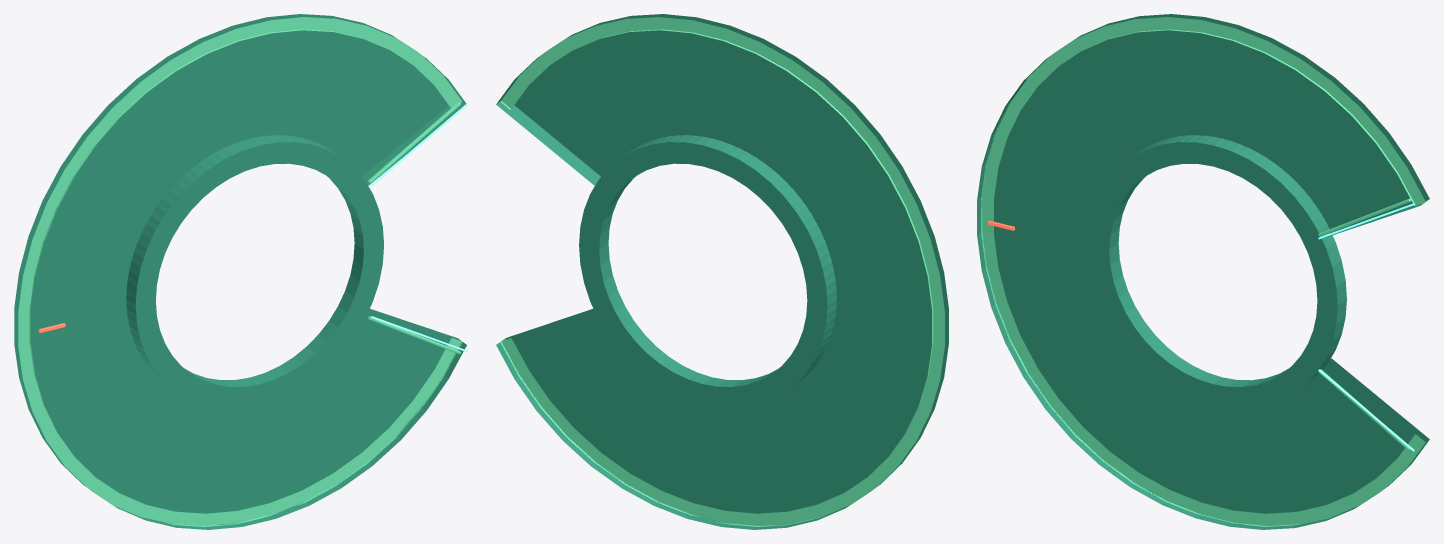
The model's file is bio-panel-fun4-medium.glb.
3 views of the same model, side by side, from view 1: azimuth 30°, elevation 25°; view 2: azimuth 150°, elevation 25°; view 3: azimuth 330°, elevation 25° (orthographic).
Parts seen in each view (by area): view 1: RENDER_PANEL_SHELL, RENDER_PANEL_FRAME, RENDER_PANEL_SIGNAL; view 2: RENDER_PANEL_SHELL, RENDER_PANEL_FRAME; view 3: RENDER_PANEL_SHELL, RENDER_PANEL_FRAME, RENDER_PANEL_SIGNAL.
Part boxes in pixels (box(x1,y1,x2,y2)): RENDER_PANEL_SHELL: box(14, 14, 466, 529); RENDER_PANEL_FRAME: box(18, 17, 462, 526); RENDER_PANEL_SIGNAL: box(371, 104, 467, 352); RENDER_PANEL_SHELL: box(496, 14, 948, 529); RENDER_PANEL_FRAME: box(500, 17, 944, 526); RENDER_PANEL_SHELL: box(977, 14, 1429, 529); RENDER_PANEL_FRAME: box(981, 17, 1425, 526); RENDER_PANEL_SIGNAL: box(1318, 203, 1414, 451).
Size of what is drawn, in the model's own units: 38.38 by 40.91 by 1.95.
